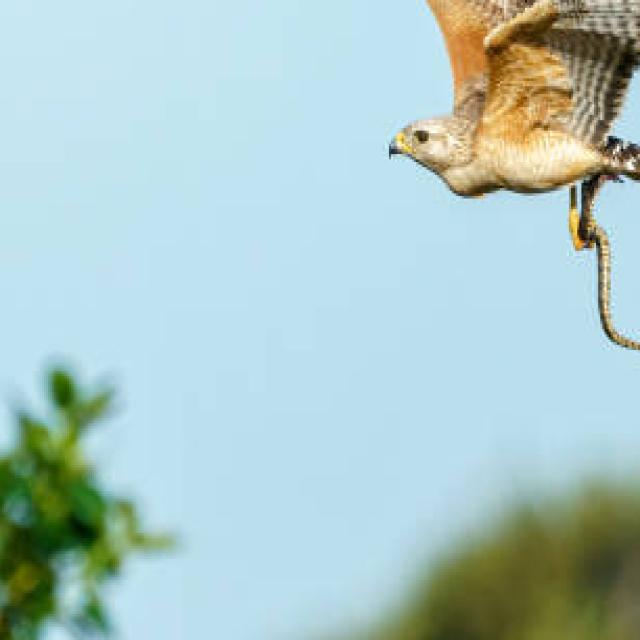Snake: (533, 154, 640, 379)
